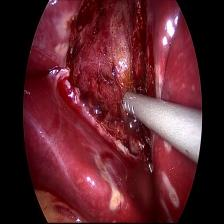Irrigator: (118, 86, 147, 128)
